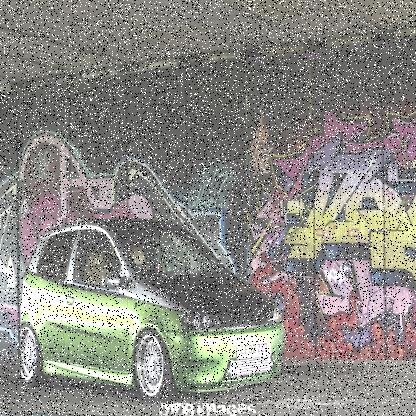Car: (21, 218, 285, 404)
